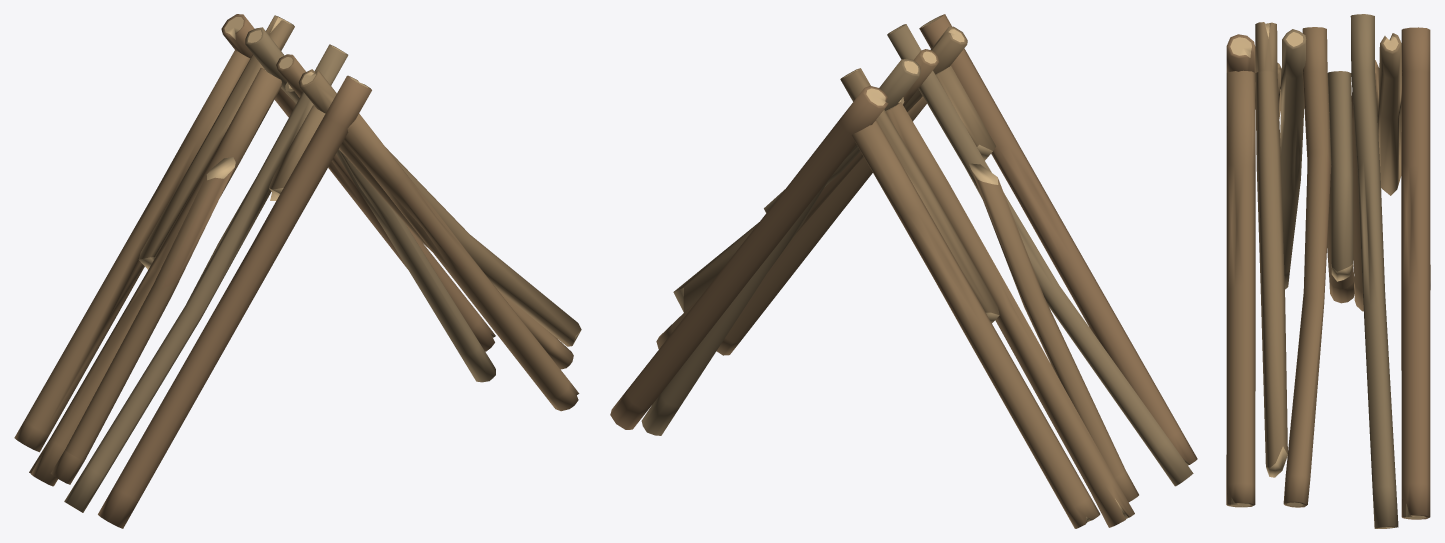
The model's file is rpgpp_av_roof_01_6x5x3_b.gltf.
3 views of the same model, side by side, from view 1: azimuth 30°, elevation 25°; view 2: azimuth 150°, elevation 25°; view 3: azimuth 270°, elevation 25° (orthographic). The views are drawn at different scales.
Visible parts, largest first — view 1: rpgpp_av_roof_01_6x5x3_b; view 2: rpgpp_av_roof_01_6x5x3_b; view 3: rpgpp_av_roof_01_6x5x3_b.
Boxes of the visible parts, bbox=[...] form: rpgpp_av_roof_01_6x5x3_b: bbox=[14, 14, 581, 528]; rpgpp_av_roof_01_6x5x3_b: bbox=[610, 14, 1197, 528]; rpgpp_av_roof_01_6x5x3_b: bbox=[1226, 14, 1430, 528].
Bounding box in the file's own units: 0.0855 × 0.0662 × 0.03.
Materials: 1 (1 with a texture image).
